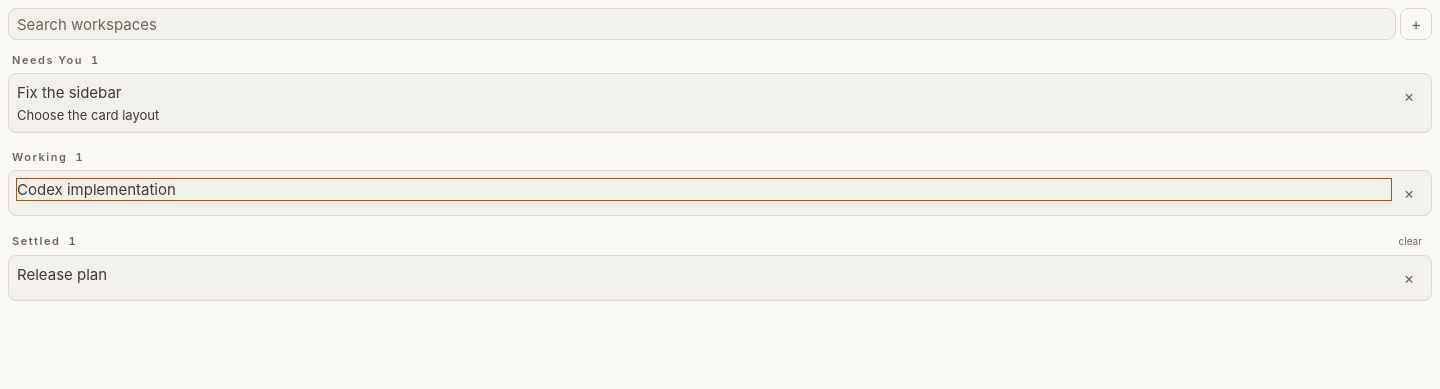
it: ProjectsSidebar adaptive workspace seam › closes an open card action menu with Escape
The image size is (1440, 389).
Right-click the button "Codex implementation" at (96, 189), box 17,179 -> 1391,200
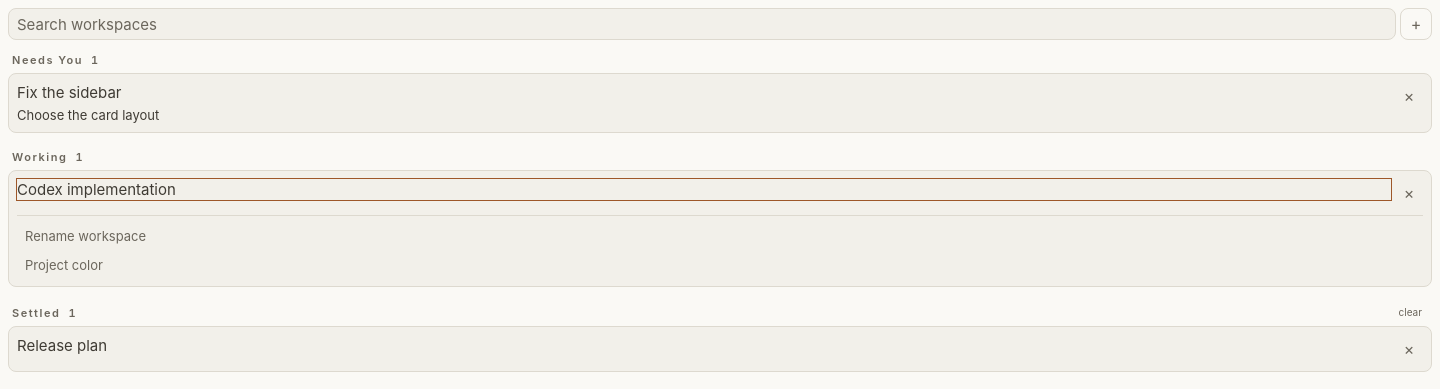
Expected: the element with id "workspace-actions-working" is shown, 17,215 -> 1423,278
Press Escape in the button "Codex implementation", box 17,179 -> 1391,200
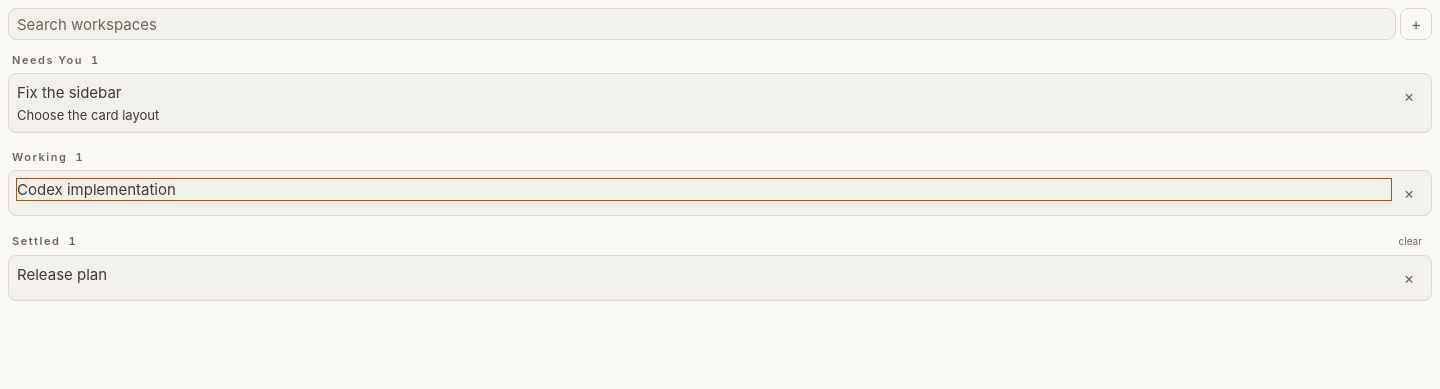
Expected: the element with id "workspace-actions-working" is gone
